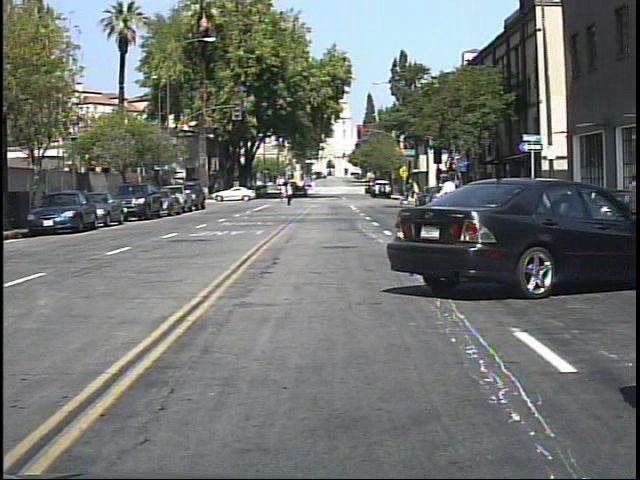person: (434, 162, 467, 249), (525, 169, 544, 225), (284, 177, 299, 209), (408, 175, 422, 198)
